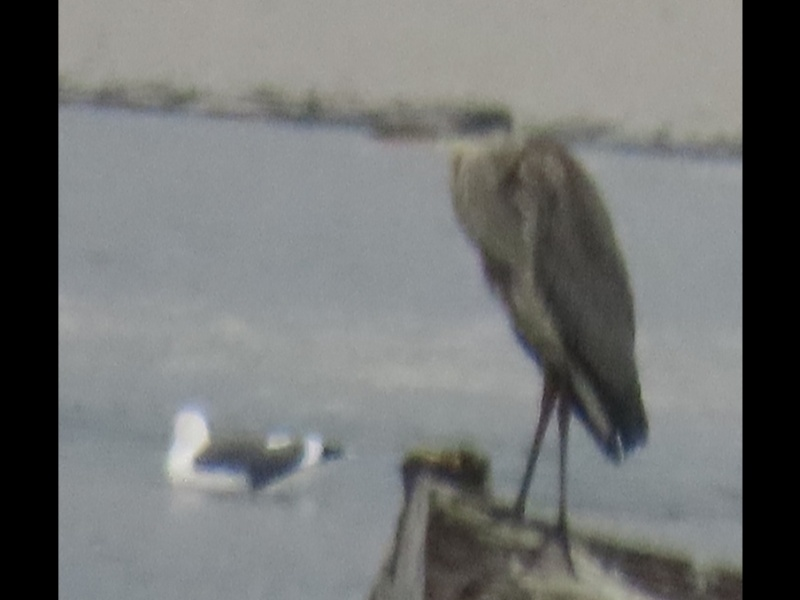heron: (365, 98, 661, 580)
